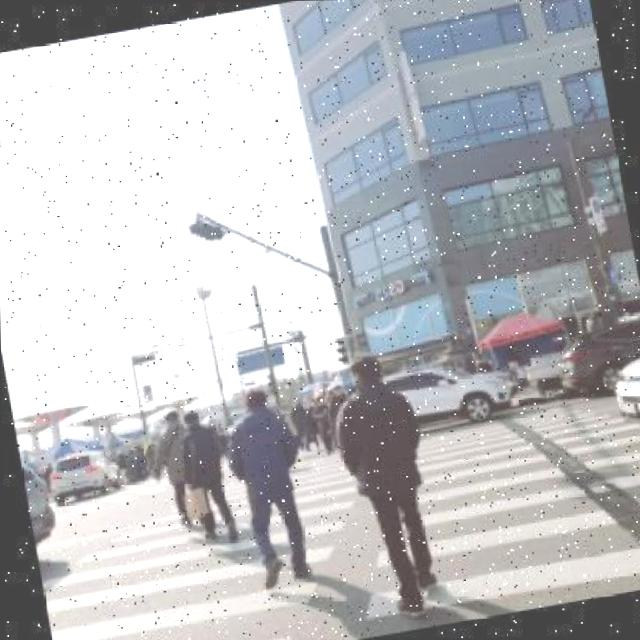Person: (325, 346, 450, 624), (215, 380, 320, 588), (171, 404, 236, 546), (144, 406, 196, 527)
